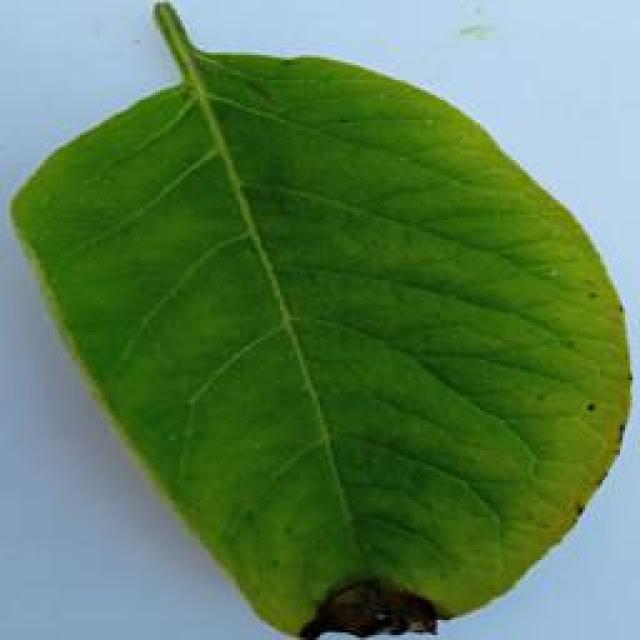Potato_Late_Blight: (11, 4, 618, 632)
